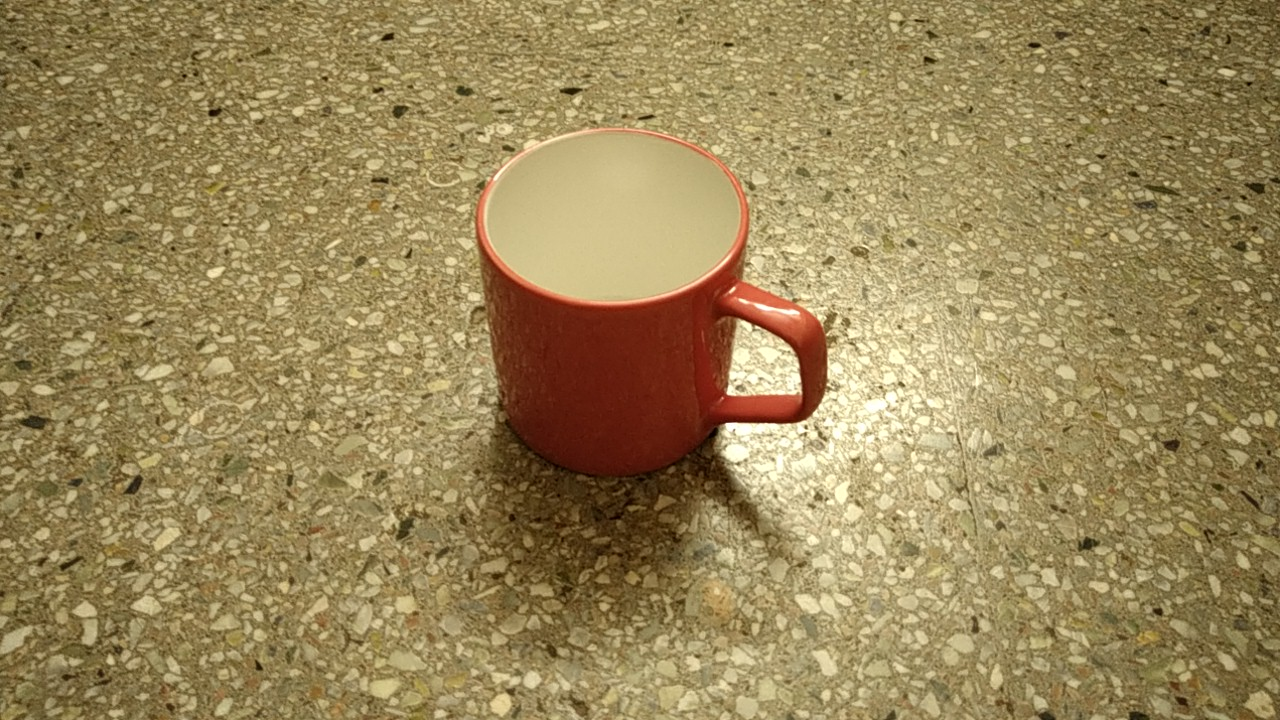cup: (450, 118, 844, 489)
